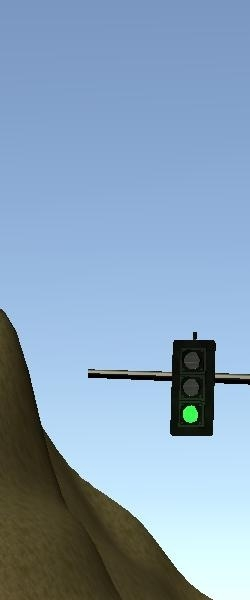Green: (169, 340, 216, 437)
